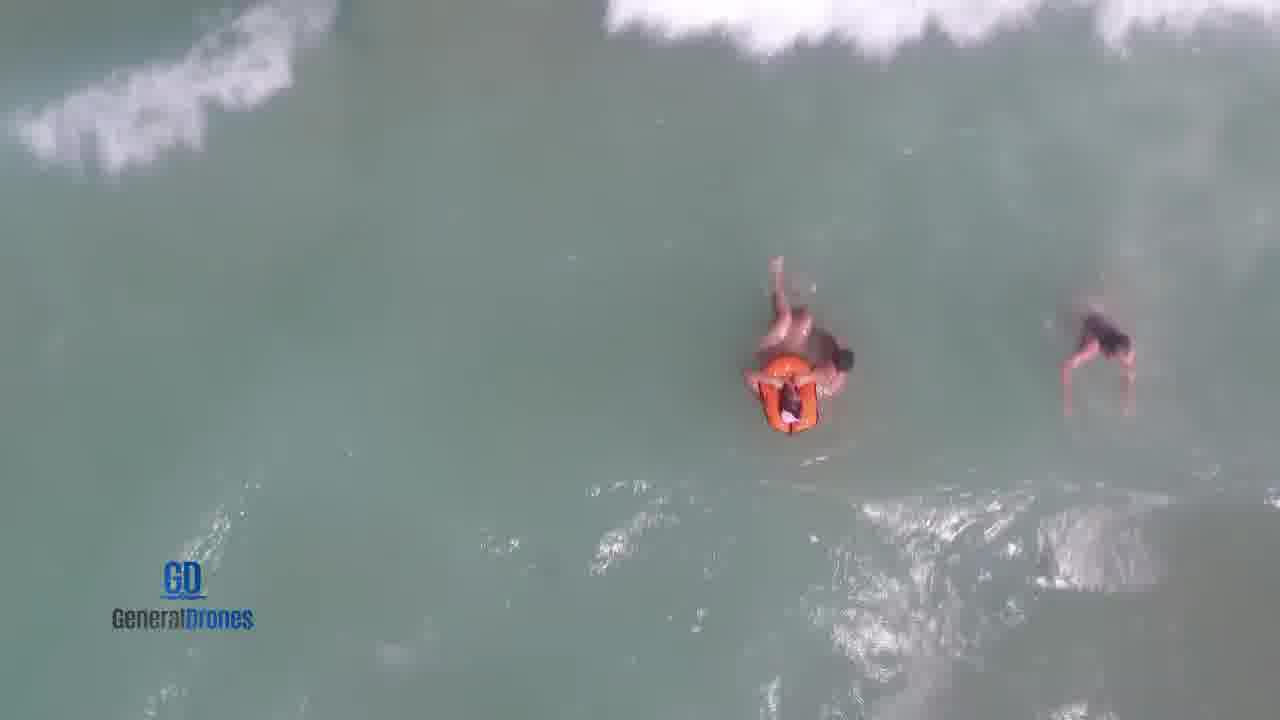human: (752, 254, 833, 411), (1059, 303, 1147, 422), (809, 330, 867, 392)
